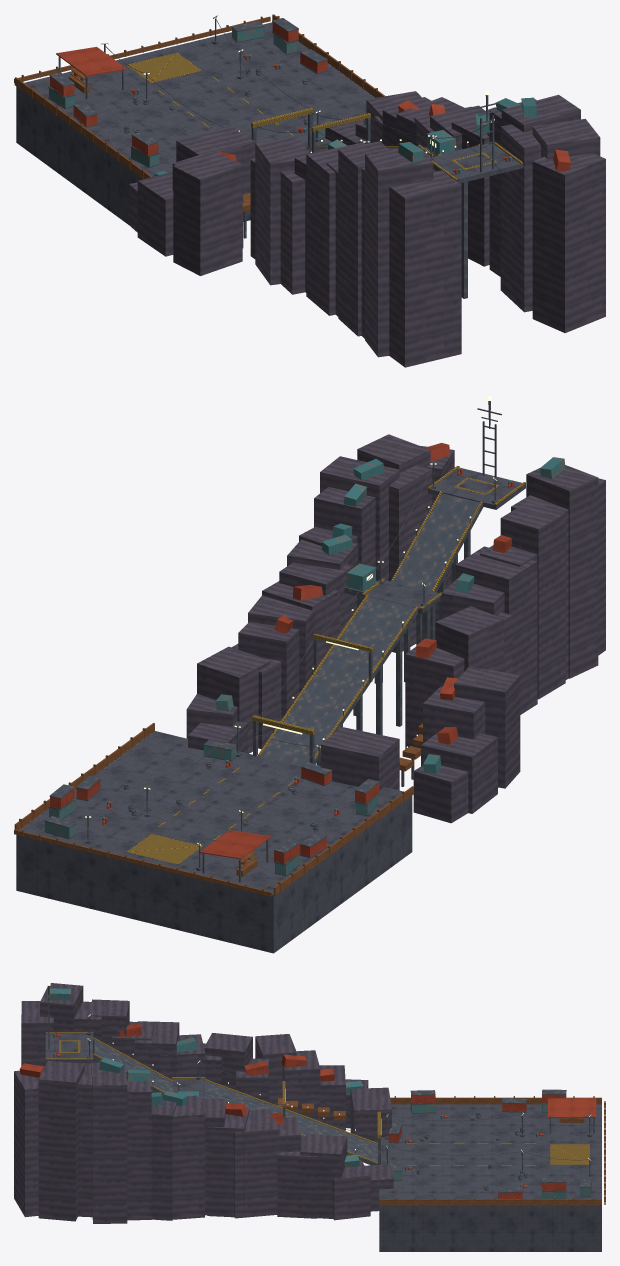
The model's file is level-4-pilas.glb.
3 views of the same model, one above another, from view 1: azimuth 30°, elevation 25°; view 2: azimuth 150°, elevation 25°; view 3: azimuth 270°, elevation 25° (orthographic). The views are drawn at different scales.
Visible parts, largest first — view 1: L4_Mountain_Rock, L4_Yard_Asphalt, L4_Ramps_Steel, L4_Wood_Structures, L4_Scrap_Red, L4_Containers_Teal, L4_Hazard_Stripes; view 2: L4_Mountain_Rock, L4_Yard_Asphalt, L4_Ramps_Steel, L4_Scrap_Red, L4_Wood_Structures, L4_Containers_Teal, L4_Hazard_Stripes; view 3: L4_Mountain_Rock, L4_Yard_Asphalt, L4_Ramps_Steel, L4_Scrap_Red, L4_Wood_Structures, L4_Containers_Teal, L4_Hazard_Stripes.
Part boxes in pixels (x1=…): L4_Mountain_Rock: x1=129, y1=91, x2=605, y2=367; L4_Yard_Asphalt: x1=16, y1=22, x2=523, y2=224; L4_Ramps_Steel: x1=48, y1=15, x2=499, y2=298; L4_Wood_Structures: x1=14, y1=14, x2=385, y2=211; L4_Scrap_Red: x1=50, y1=22, x2=570, y2=174; L4_Containers_Teal: x1=49, y1=27, x2=536, y2=176; L4_Hazard_Stripes: x1=126, y1=52, x2=522, y2=180; L4_Mountain_Rock: x1=186, y1=434, x2=605, y2=823; L4_Yard_Asphalt: x1=16, y1=467, x2=525, y2=953; L4_Ramps_Steel: x1=44, y1=401, x2=501, y2=882; L4_Scrap_Red: x1=50, y1=443, x2=513, y2=864; L4_Wood_Structures: x1=14, y1=723, x2=422, y2=896; L4_Containers_Teal: x1=45, y1=457, x2=565, y2=875; L4_Hazard_Stripes: x1=127, y1=465, x2=525, y2=864; L4_Mountain_Rock: x1=14, y1=983, x2=393, y2=1223; L4_Yard_Asphalt: x1=45, y1=1034, x2=601, y2=1251; L4_Ramps_Steel: x1=48, y1=986, x2=594, y2=1198; L4_Scrap_Red: x1=19, y1=1023, x2=596, y2=1198; L4_Wood_Structures: x1=278, y1=1096, x2=605, y2=1205; L4_Containers_Teal: x1=49, y1=988, x2=591, y2=1198; L4_Hazard_Stripes: x1=45, y1=1032, x2=589, y2=1165.
Size of the model in its own units: 69.38 by 60.73 by 149.
8 materials, 7 textured.
